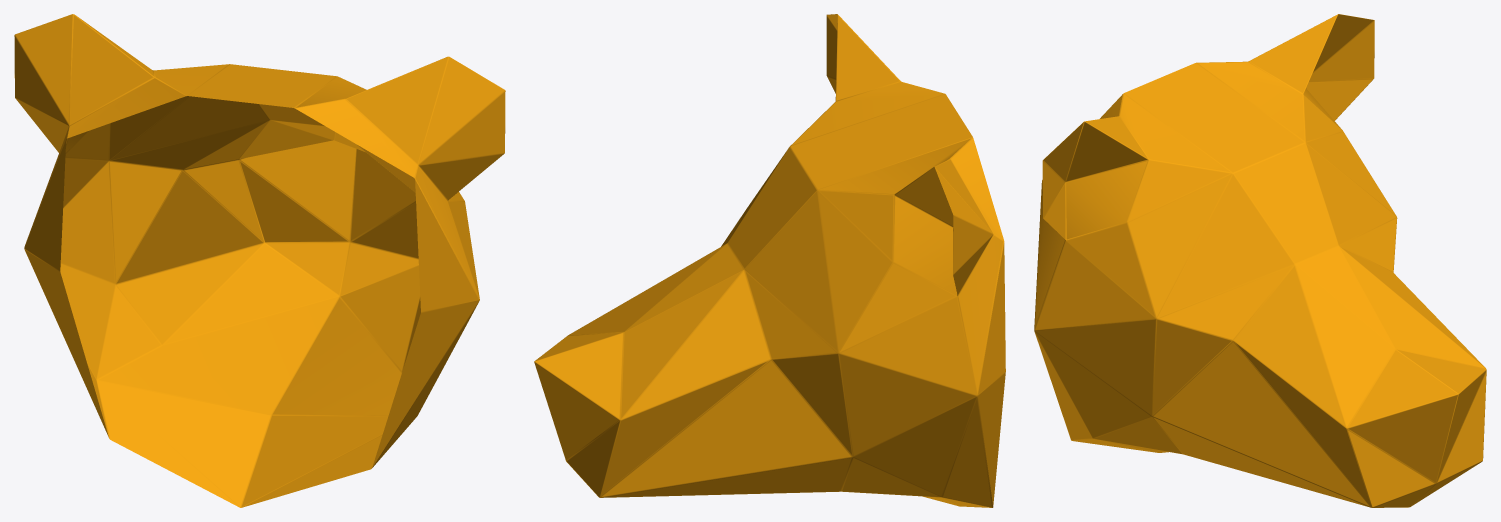
File: poligonBearGold.gltf
3 views of the same model, side by side, from view 1: azimuth 30°, elevation 25°; view 2: azimuth 150°, elevation 25°; view 3: azimuth 270°, elevation 25° (orthographic). The views are drawn at different scales.
Visible parts, largest first — view 1: poligonBearGold; view 2: poligonBearGold; view 3: poligonBearGold.
Boxes of the visible parts, box(x1,y1,x2,y2) form: poligonBearGold: box(14, 14, 505, 507); poligonBearGold: box(534, 14, 1005, 507); poligonBearGold: box(1034, 14, 1486, 507).
Size of the model in its own units: 4.03 by 4 by 4.03.
